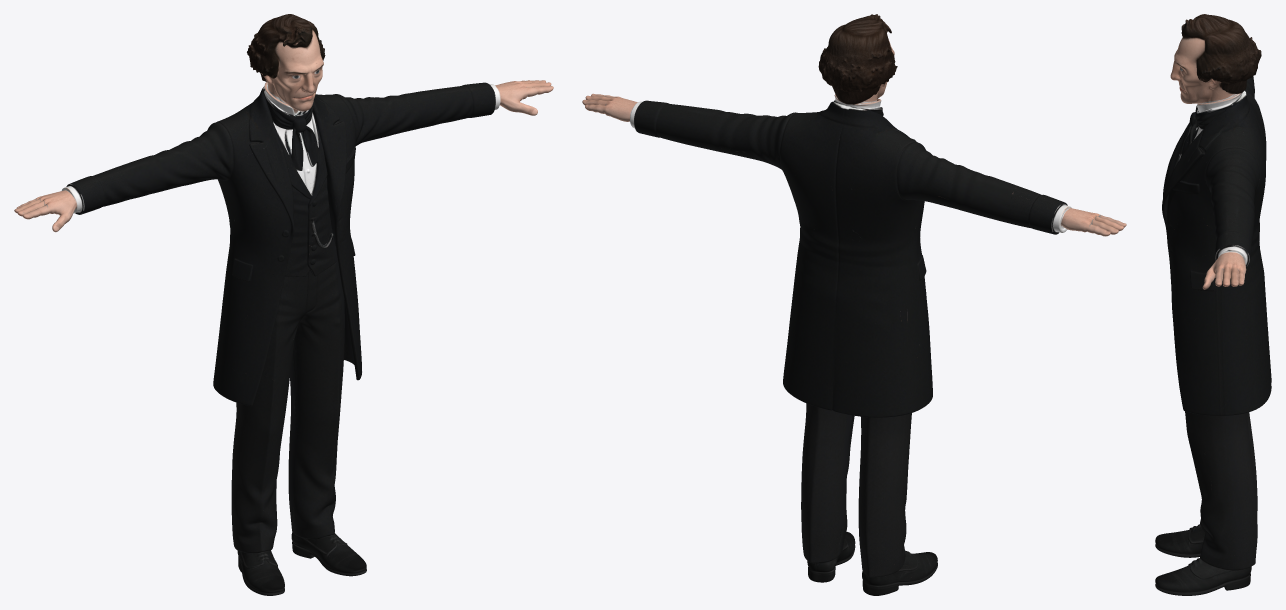
File: oliver-cowdery-source.glb
3 renders of one model, left to right at view 1: azimuth 30°, elevation 25°; view 2: azimuth 150°, elevation 25°; view 3: azimuth 270°, elevation 25°, orthographic.
Size of the model in its own units: 1.9 by 1.88 by 0.3586.
Materials: 1 (1 with a texture image).
